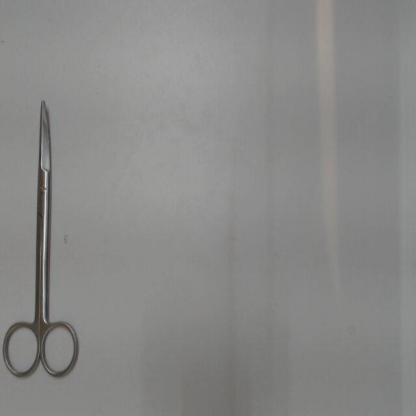Curved Mayo Scissors: (0, 93, 83, 386)
